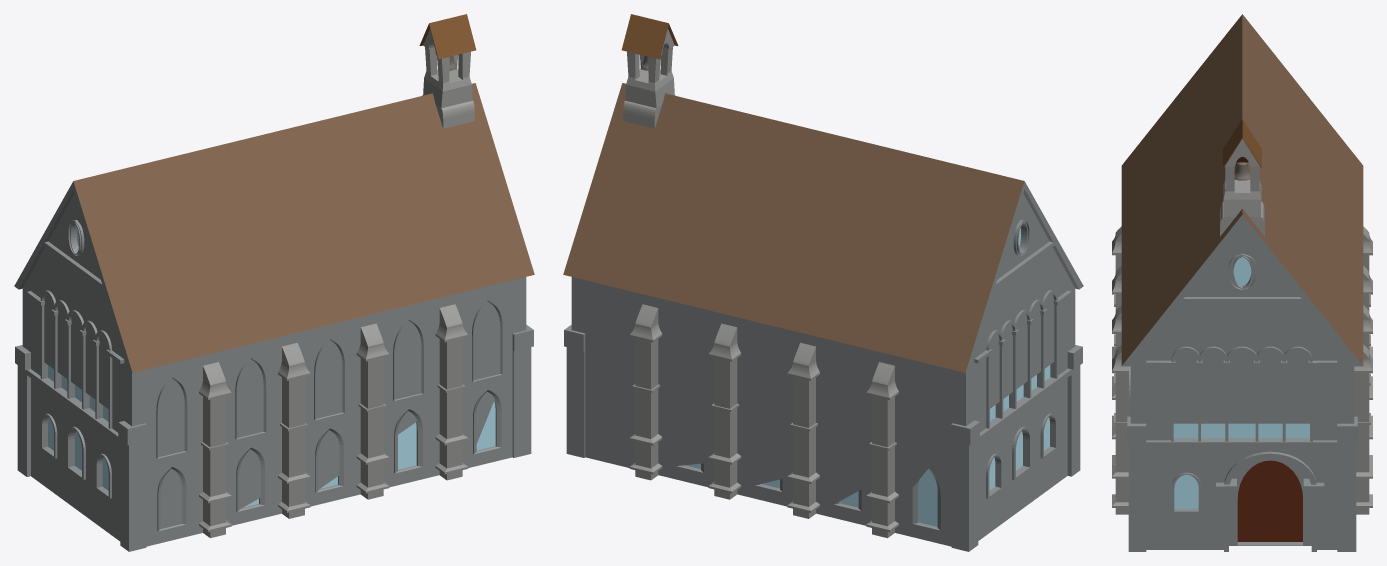
Rendered from SchoolColorsFix.fbx.
The picture shows the model from 3 angles, left to right: view 1: azimuth 30°, elevation 25°; view 2: azimuth 150°, elevation 25°; view 3: azimuth 270°, elevation 25°; orthographic projection. The views are drawn at different scales.
Parts seen in each view (by area): view 1: School, SideArchs, BellTower; view 2: School, SideArchs, BellTower; view 3: School, SideArchs, BellTower.
Part boxes in pixels (x1,y1,x2,y2): School: (14,83,534,551); SideArchs: (199,304,468,538); BellTower: (419,14,476,128); School: (563,83,1083,551); SideArchs: (629,304,898,538); BellTower: (621,14,678,128); School: (1121,14,1363,551); SideArchs: (1112,226,1372,514); BellTower: (1220,119,1264,236).
Size of the model in its own units: 5175 by 4860 by 2802.
